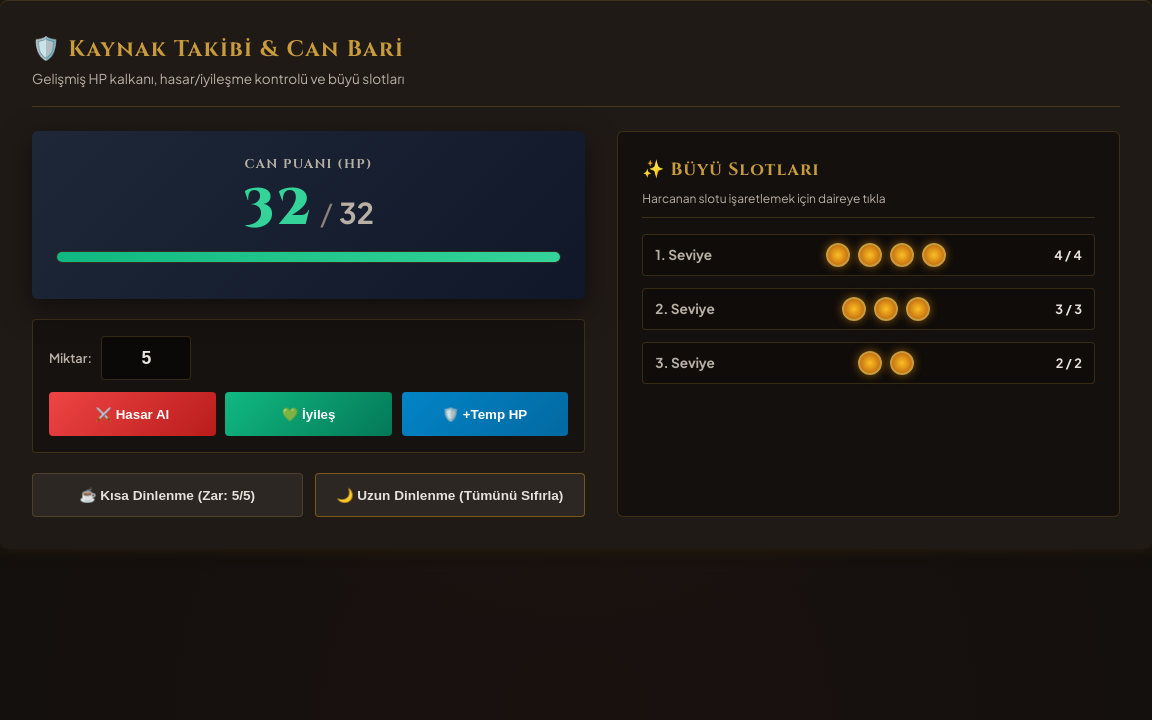
it: Kaynak Takibi (ResourceTracker) Bileşen Testleri › Geçici can eklendiğinde badge görünür, hasar alındığında önce geçici can düşer
# Miktar inputunu 10 yap
Replace the text in the number field labelled "Miktar:" with "10" at (146, 358), box [101,336,191,380]
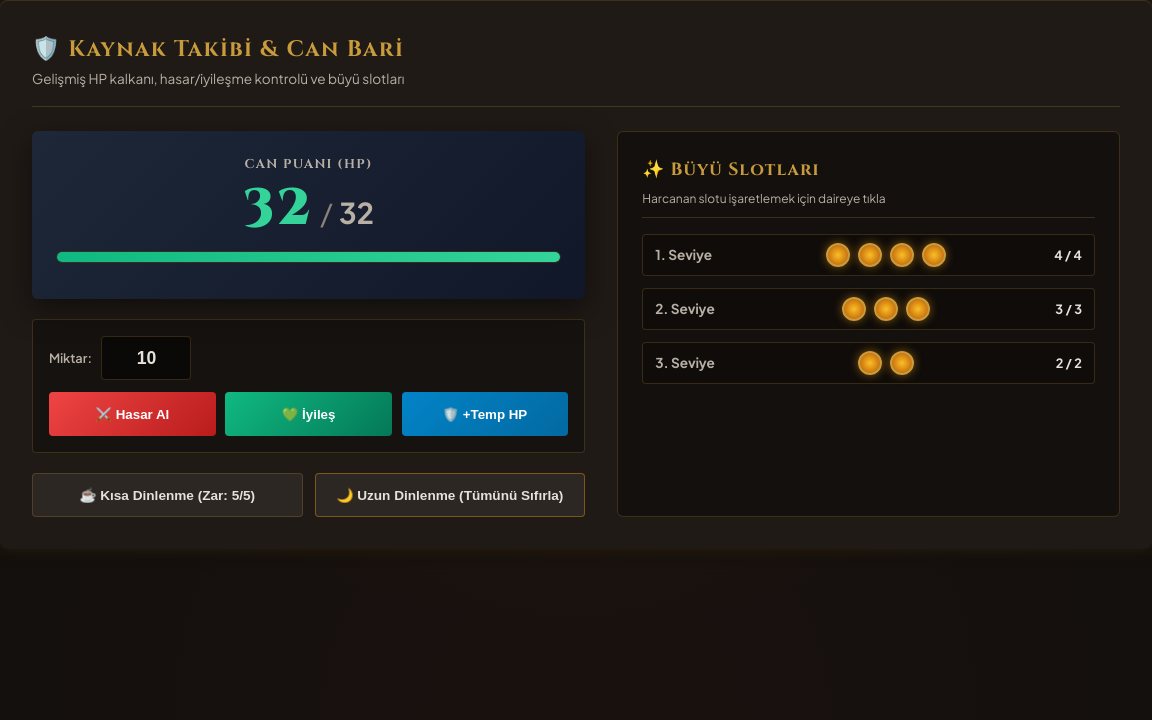
# Temp HP ekle
Click the button with aria-label "Geçici Can Ekle" at (485, 414), box [402,392,568,436]
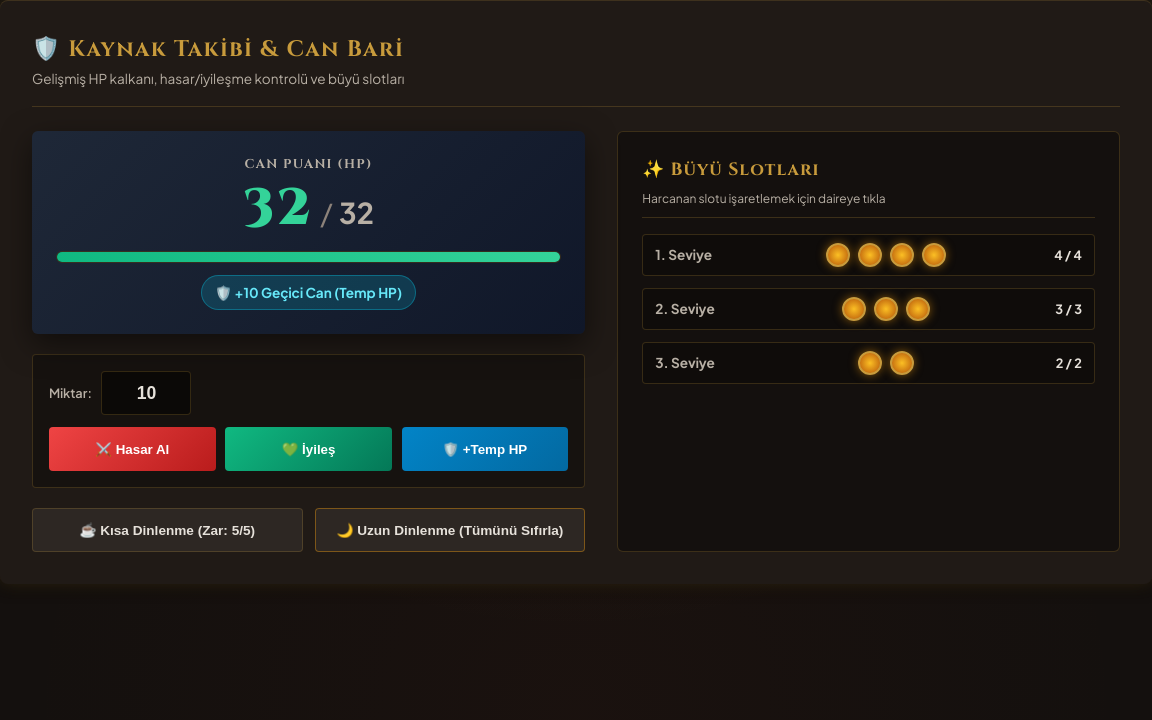
Expected: the text "🛡️ +10 Geçici Can (Temp HP)" is shown, [201,275,416,310]
Replace the text in the number field labelled "Miktar:" with "15" at (146, 393), box [101,371,191,415]
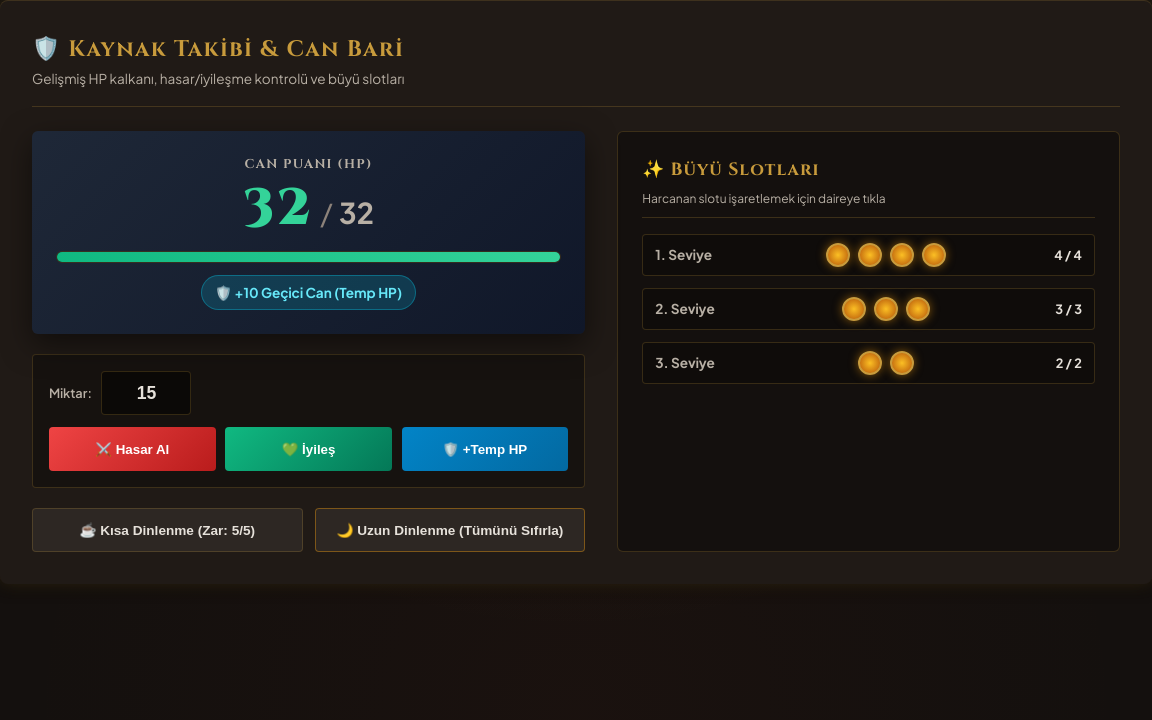
Click the button "⚔️ Hasar Al" at (132, 449), box [49,427,216,471]
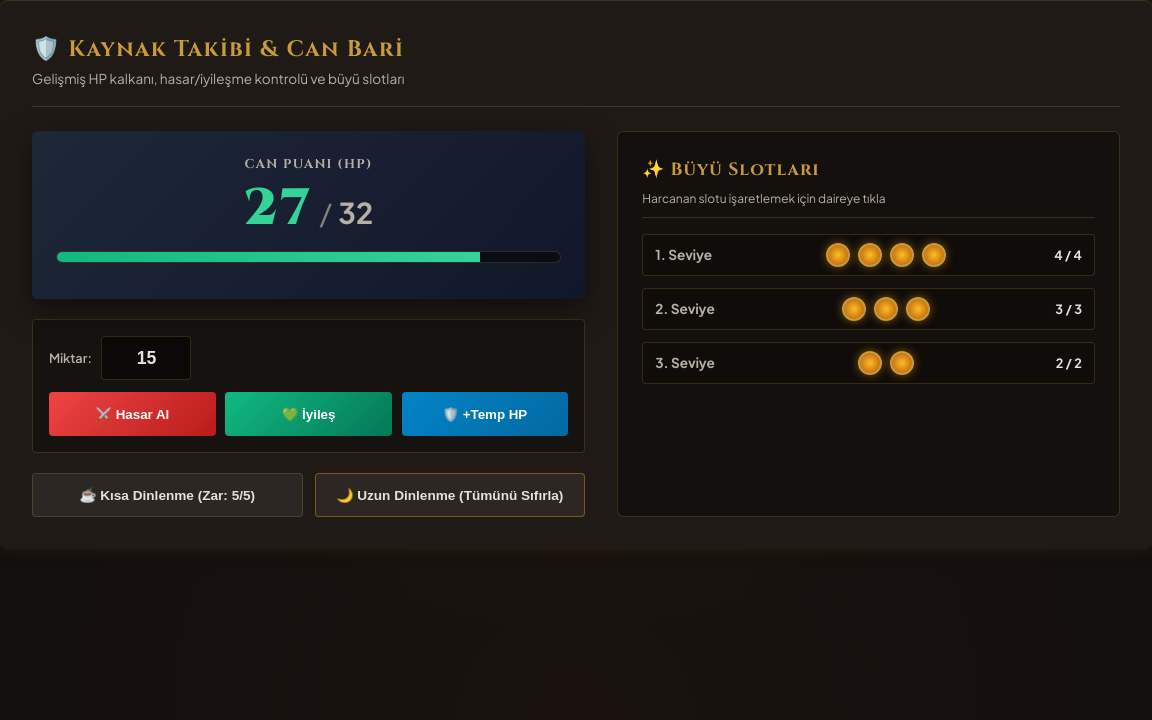
Expected: the text with id "display-current-hp" reads "27", [244,174,313,243]
Expected: the text "🛡️ +10 Geçici Can" is gone
